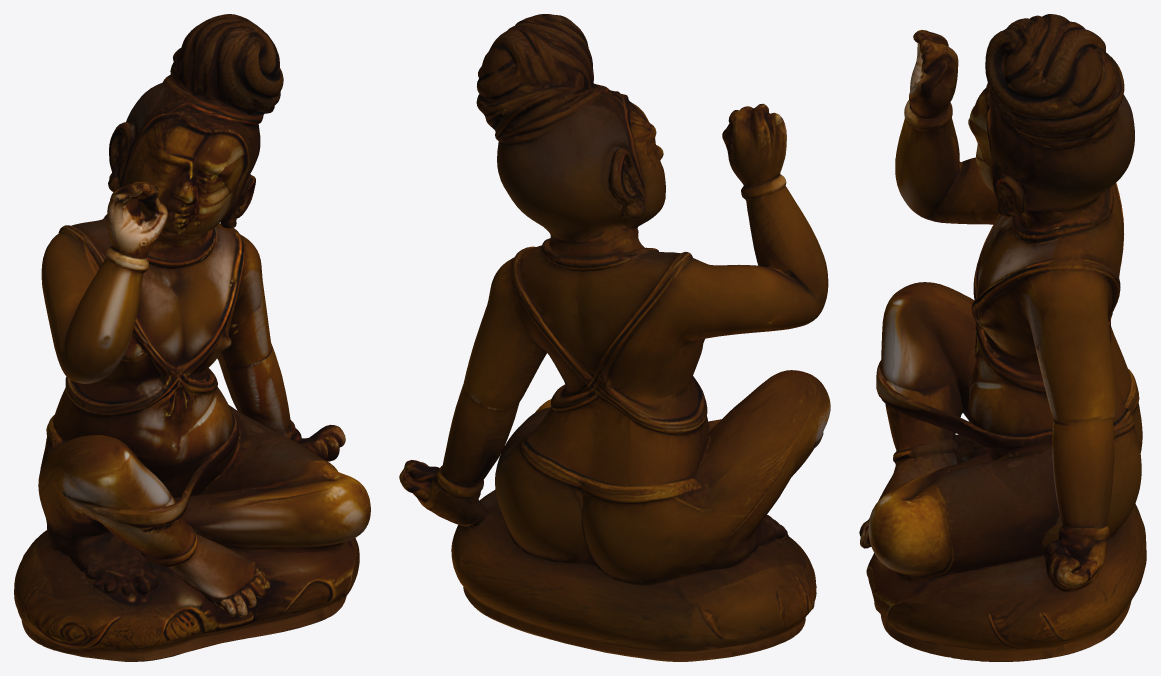
3 views of the same model, side by side, from view 1: azimuth 30°, elevation 25°; view 2: azimuth 150°, elevation 25°; view 3: azimuth 270°, elevation 25° (orthographic). The views are drawn at different scales.
Parts seen in each view (by area): view 1: textured_mesh; view 2: textured_mesh; view 3: textured_mesh.
Part boxes in pixels (box(x1,y1,x2,y2)): textured_mesh: box(14, 14, 370, 661); textured_mesh: box(399, 14, 830, 661); textured_mesh: box(859, 14, 1146, 661).
Size of the model in its own units: 1.34 by 1.99 by 0.8647.
1 material, 1 textured.
